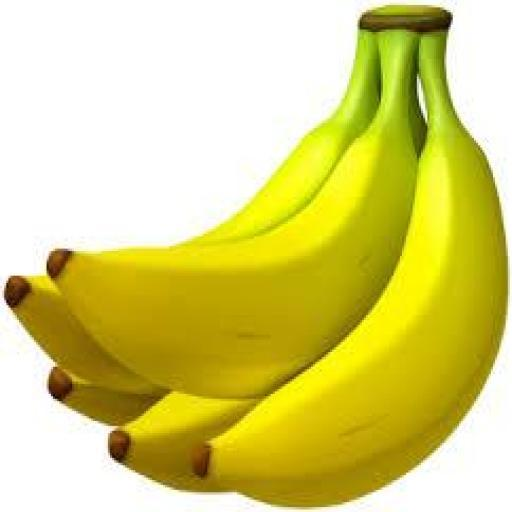banana: (195, 13, 507, 507), (49, 32, 416, 396)
